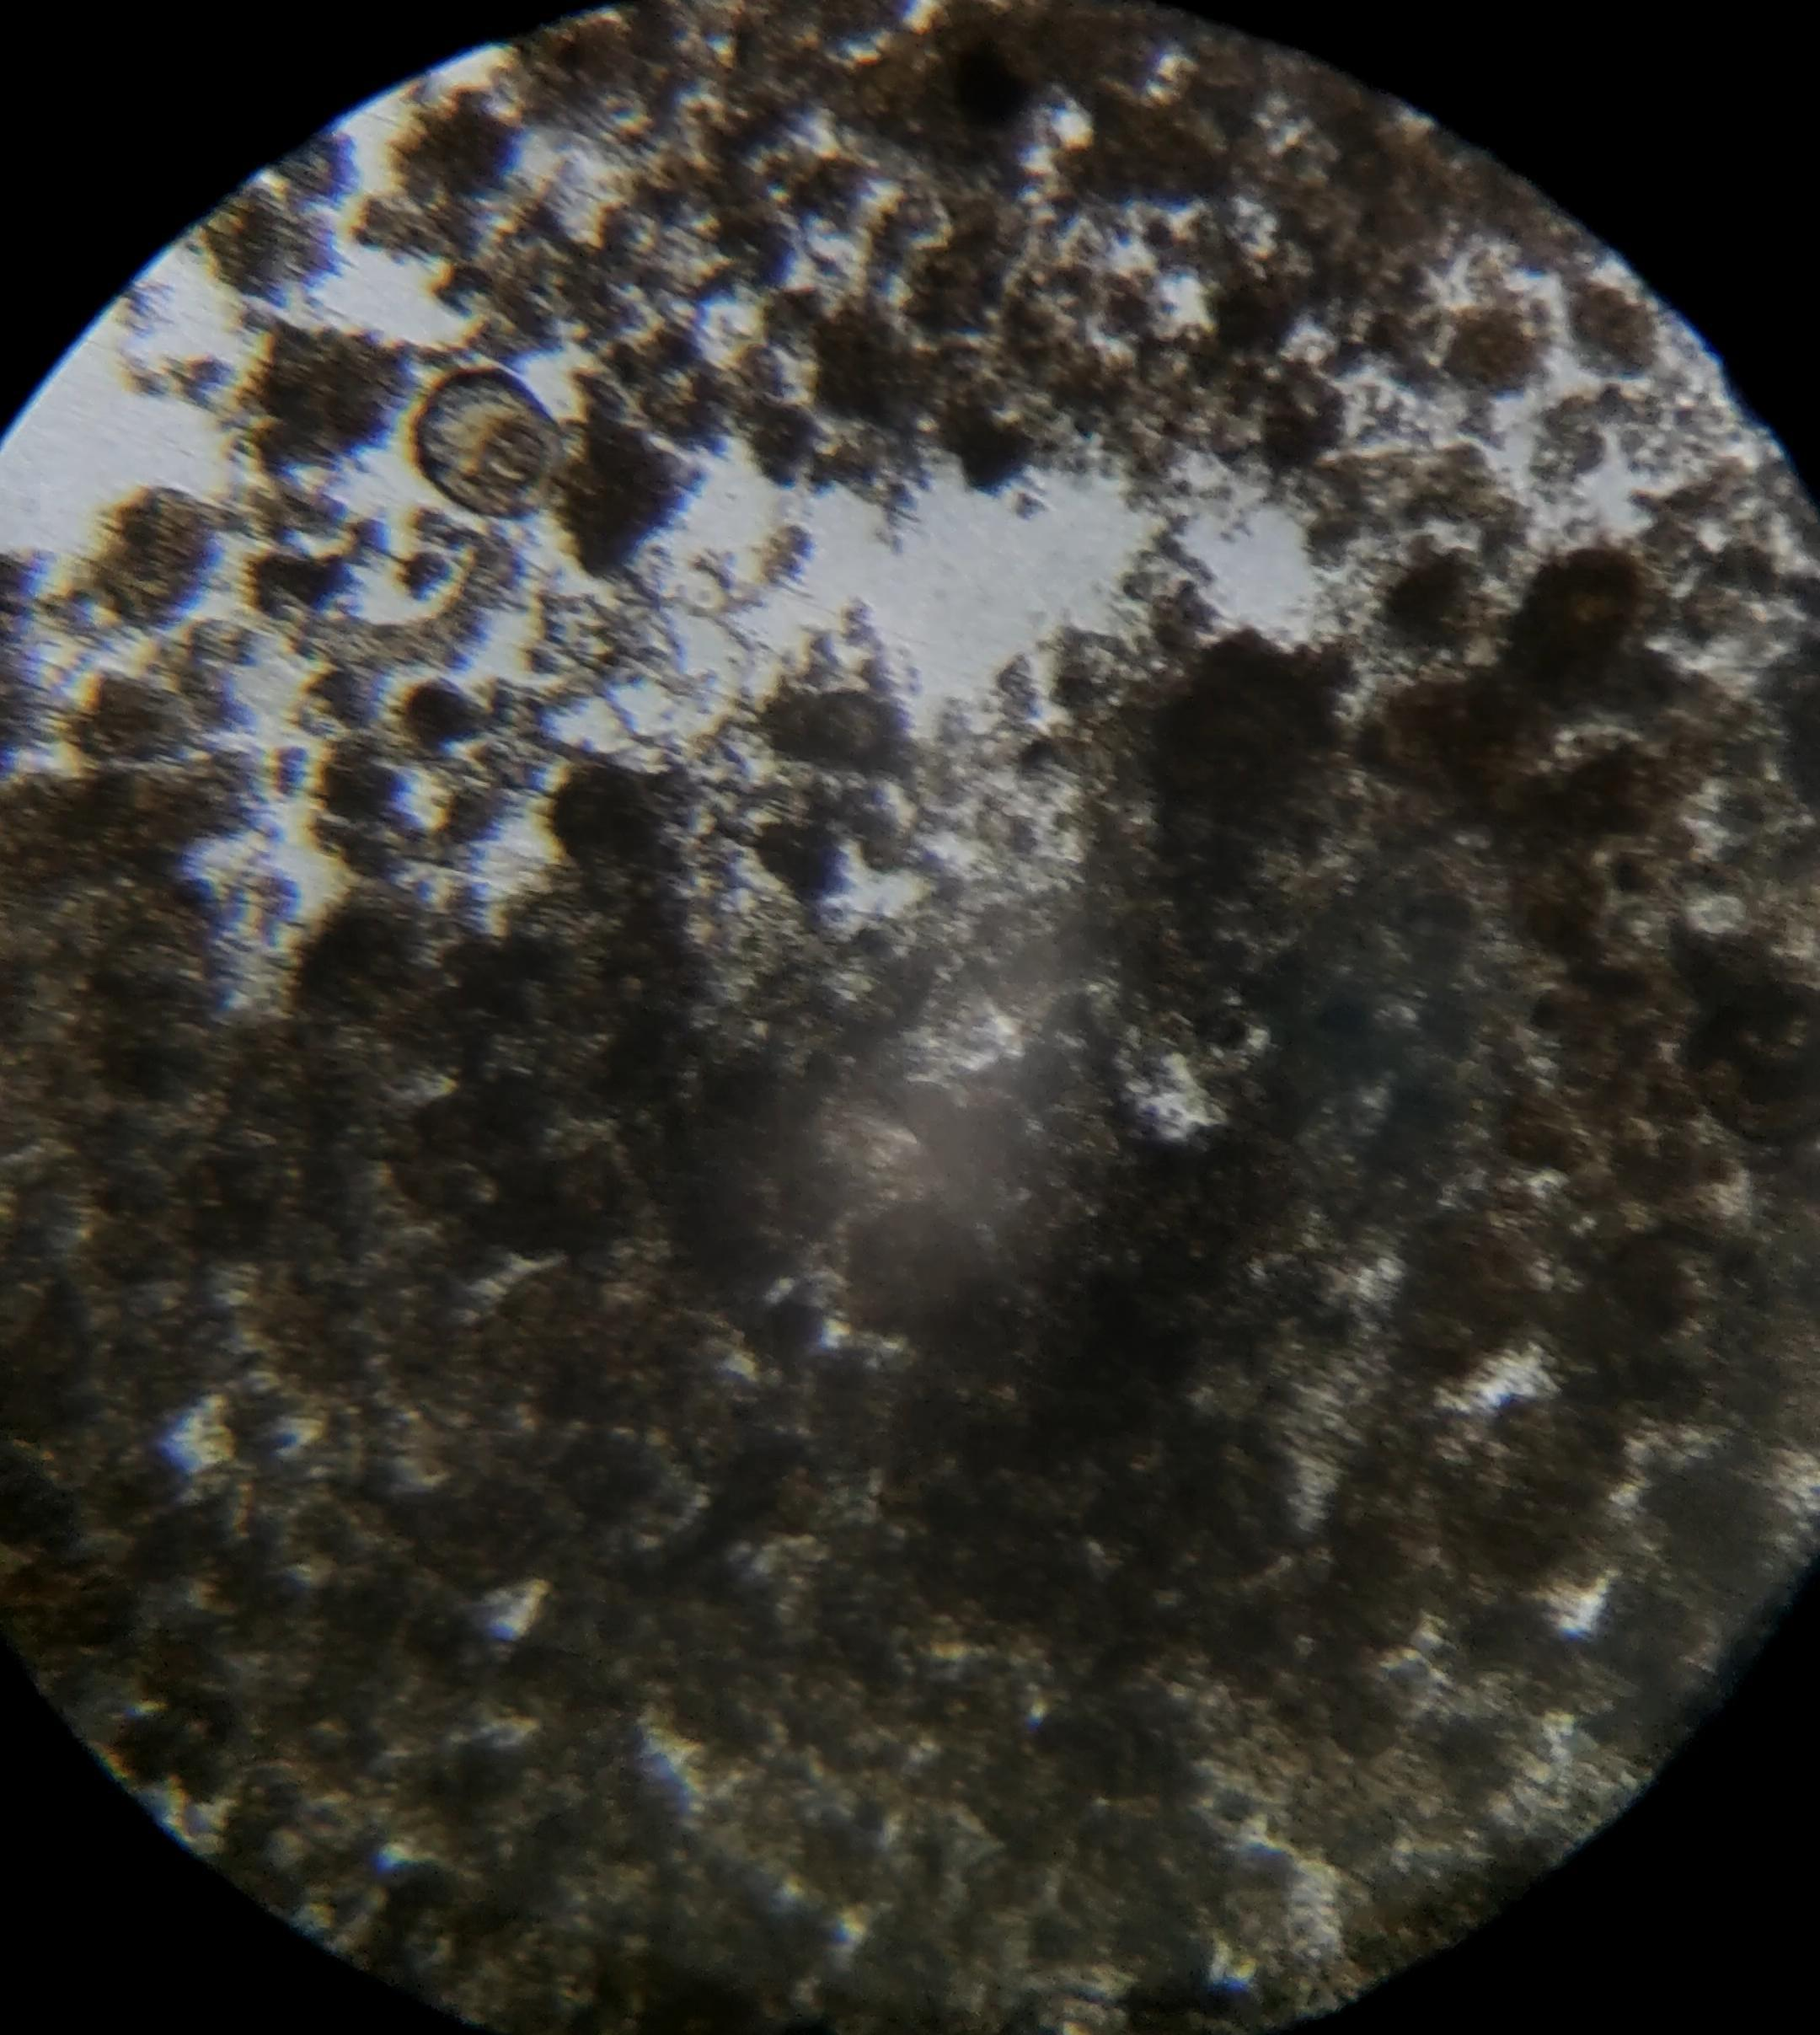Arcella: (422, 374, 559, 520), (1695, 982, 1820, 1137)
